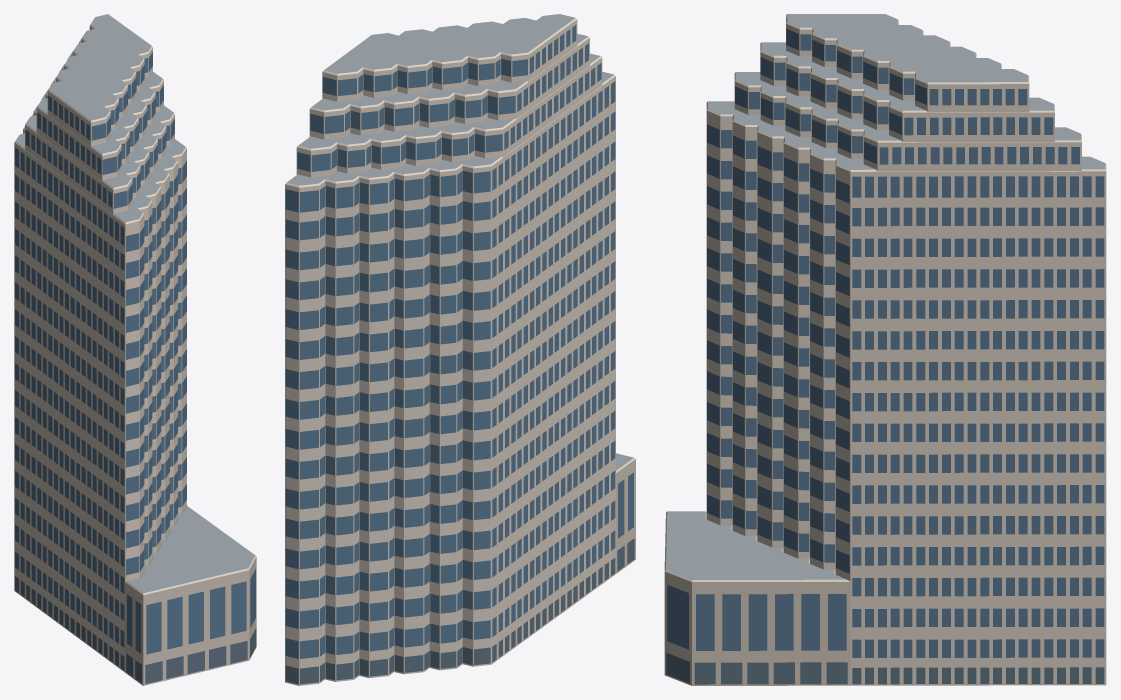
Rendered from nola-energy-centre.glb.
3 renders of one model, left to right at view 1: azimuth 30°, elevation 25°; view 2: azimuth 150°, elevation 25°; view 3: azimuth 270°, elevation 25°, orthographic. The views are drawn at different scales.
Parts seen in each view (by area): view 1: Energy Centre; view 2: Energy Centre; view 3: Energy Centre.
Boxes of the visible parts, left/top/right/bottom form: Energy Centre: left=14, top=14, right=256, bottom=685; Energy Centre: left=285, top=14, right=635, bottom=685; Energy Centre: left=664, top=14, right=1106, bottom=685.
Size of the model in its own units: 38.4 by 154 by 103.
